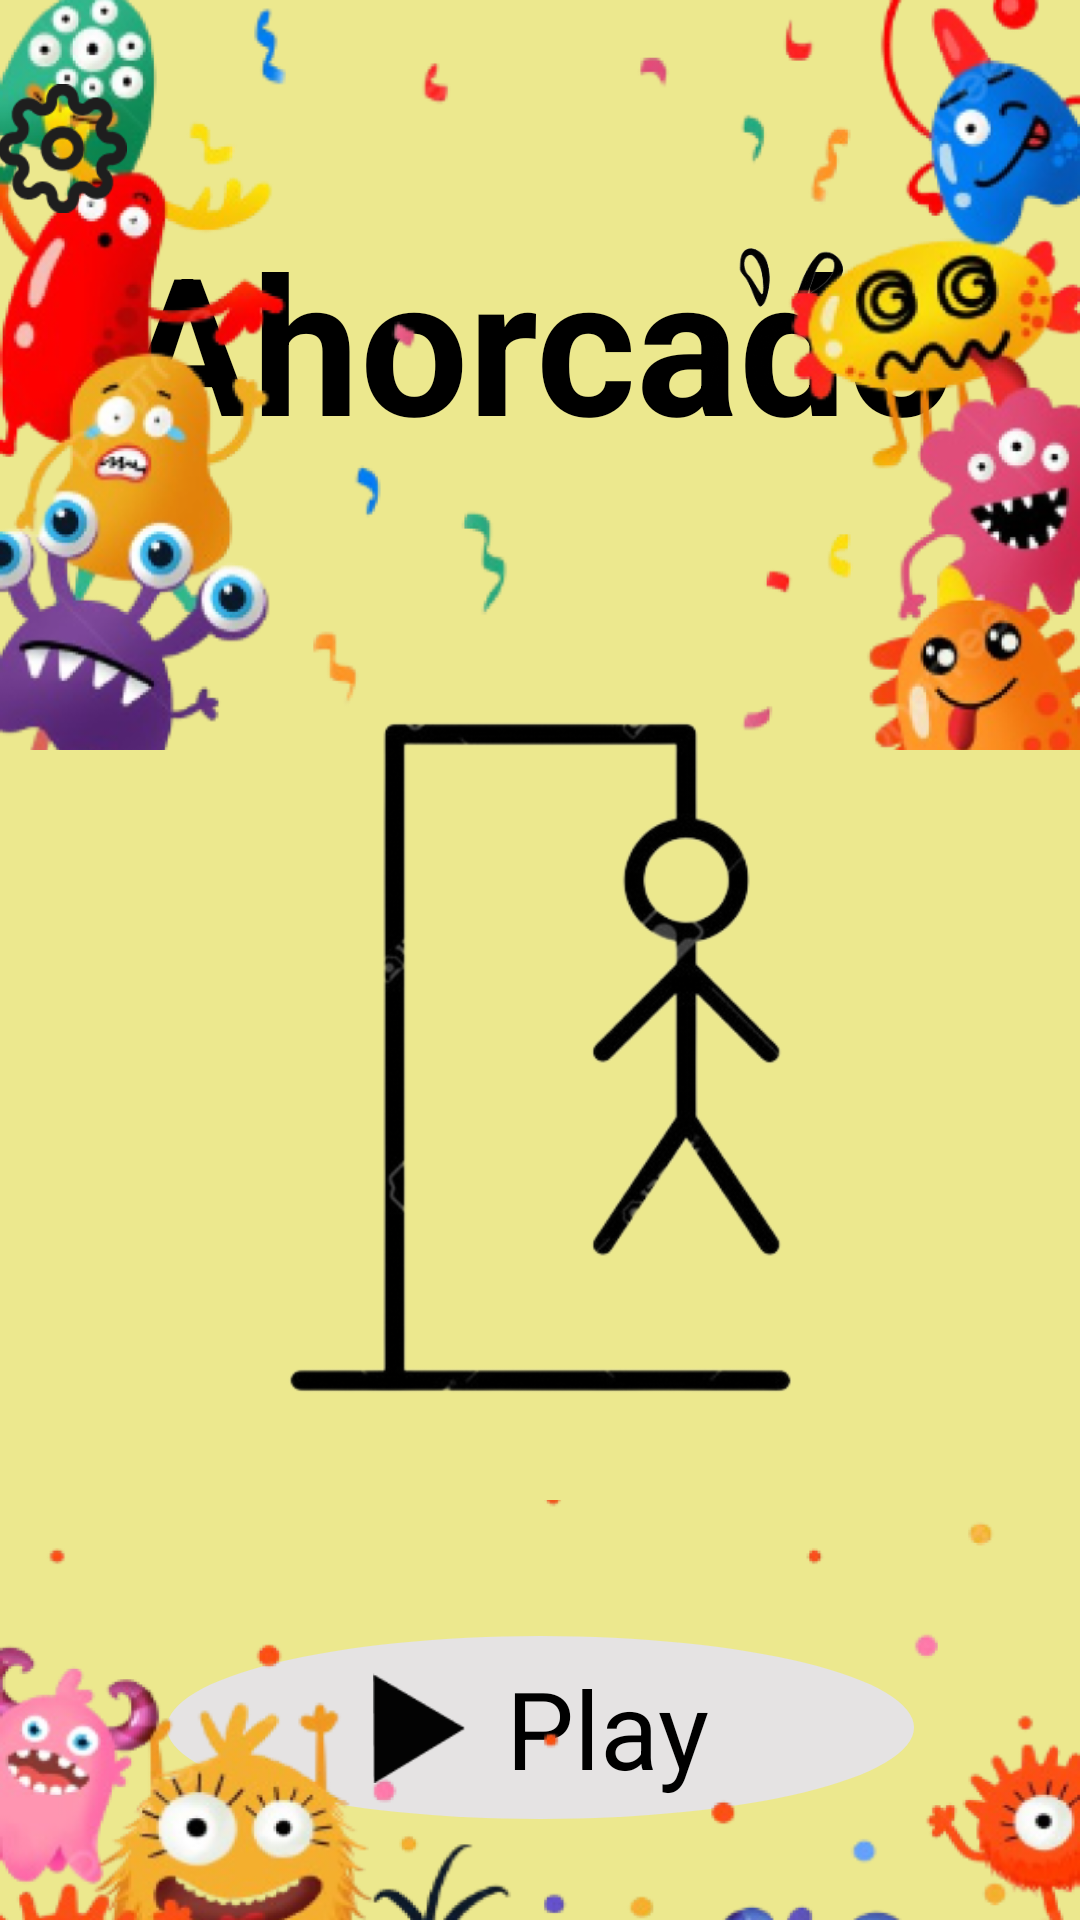

Point at icon controls on the screen. Image size 1080px x 1920px, points as (x=x, y=y).
settings: (x=63, y=148)
